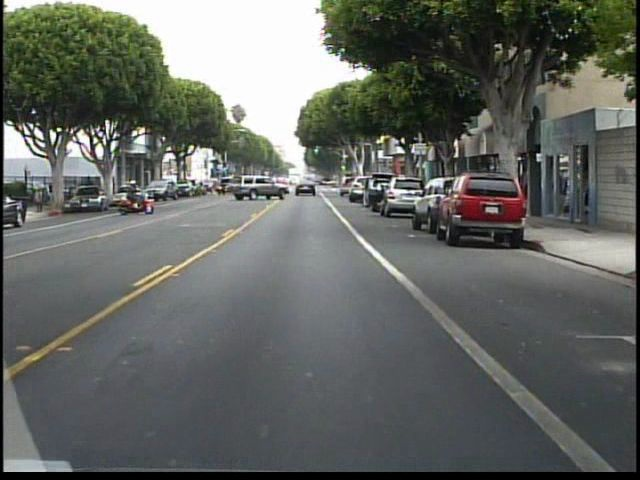person: (127, 179, 149, 212), (81, 172, 98, 206)
